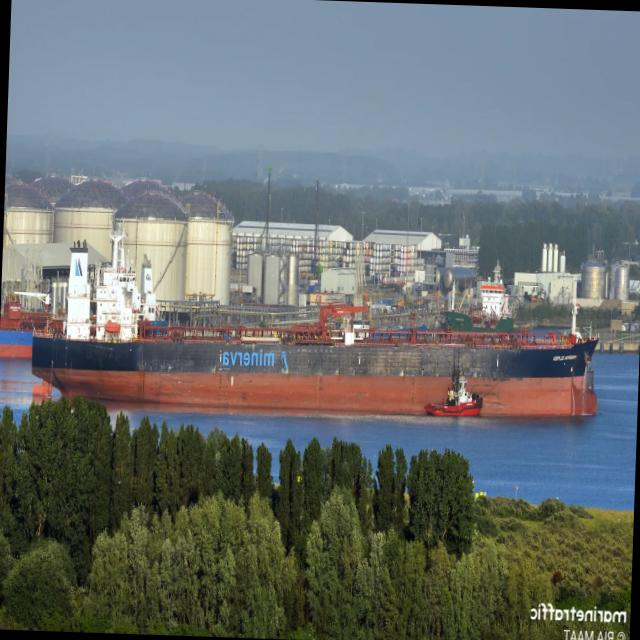Tanker: (32, 222, 597, 415)
Tug: (425, 367, 482, 415)
